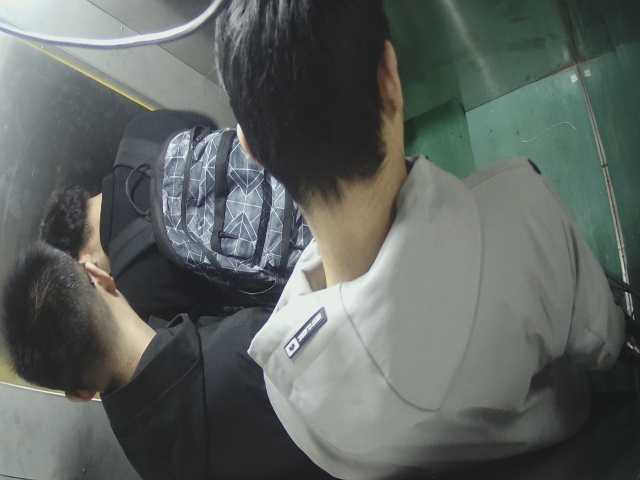bag: (140, 120, 319, 297)
person: (211, 1, 632, 477), (1, 241, 356, 478), (36, 111, 336, 330)
